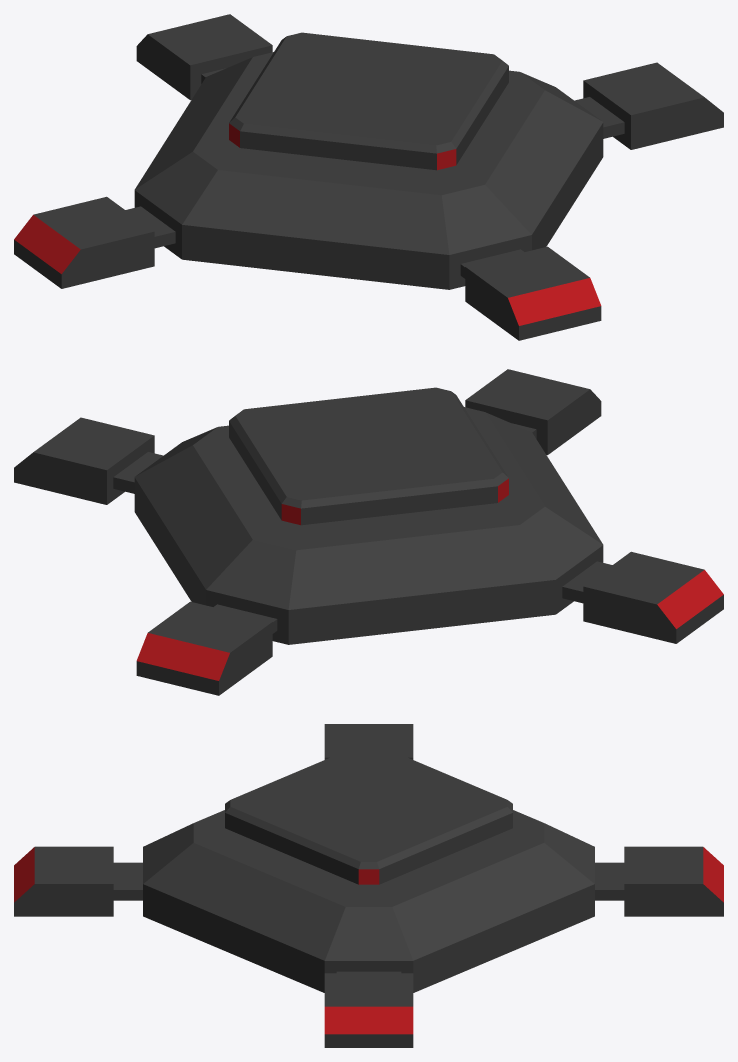
The model's file is Turret.fbx.
3 renders of one model, top to bottom at view 1: azimuth 30°, elevation 25°; view 2: azimuth 150°, elevation 25°; view 3: azimuth 270°, elevation 25°, orthographic. The views are drawn at different scales.
Parts seen in each view (by area): view 1: TurretBase, TurretAxis; view 2: TurretBase, TurretAxis; view 3: TurretBase, TurretAxis.
Boxes of the visible parts, x1,y1,x2,y2 form: TurretBase: (14,14,723,340); TurretAxis: (229,32,508,170); TurretBase: (14,369,723,695); TurretAxis: (229,387,508,525); TurretBase: (14,724,723,1047); TurretAxis: (225,744,512,884).
Bounding box in the file's own units: 372 × 372 × 54.61.
